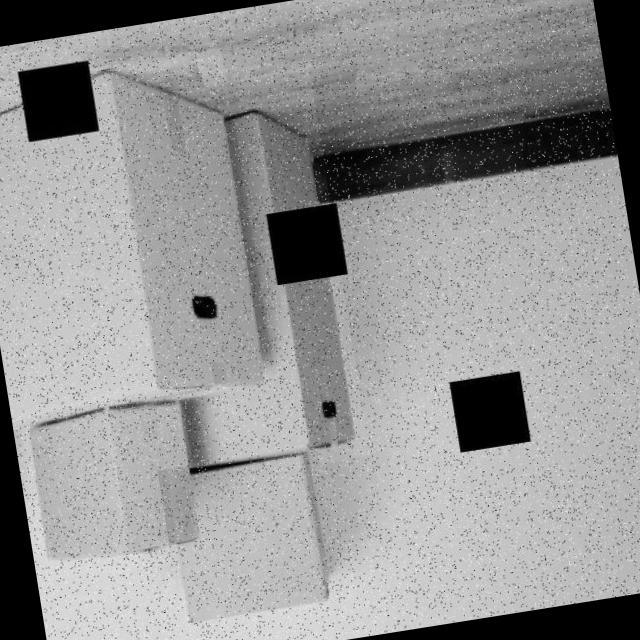box: (0, 47, 275, 430), (134, 68, 370, 483), (14, 362, 209, 584), (158, 446, 344, 638)
